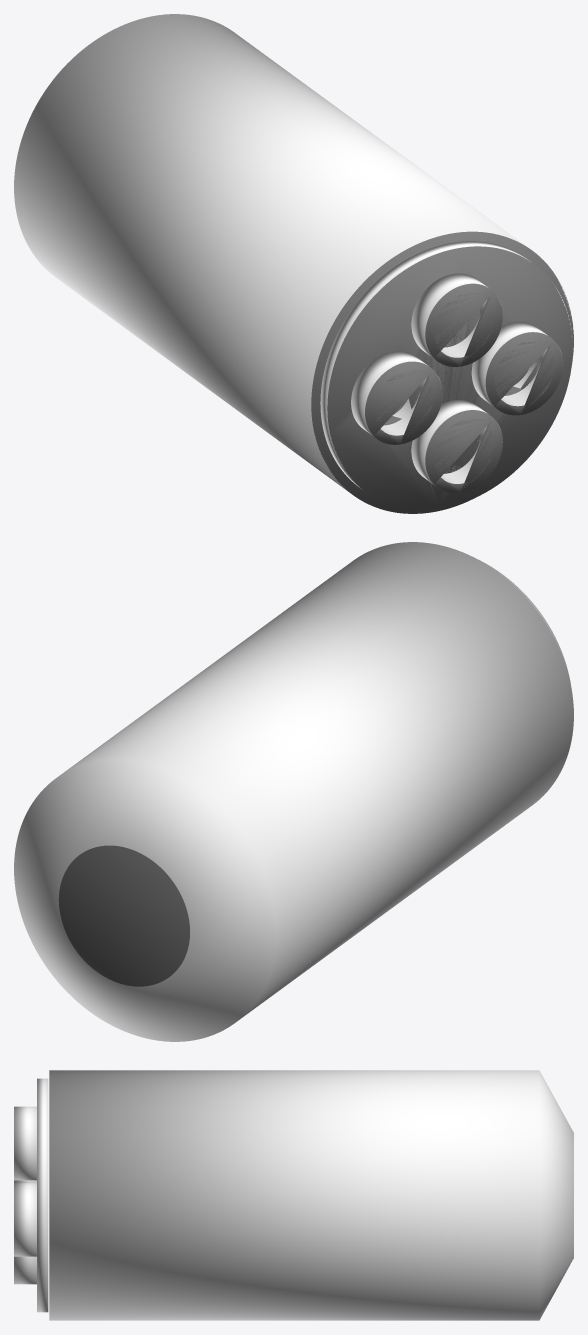
Rendered from sm6_booster_fixed.obj.
3 renders of one model, top to bottom at view 1: azimuth 30°, elevation 25°; view 2: azimuth 150°, elevation 25°; view 3: azimuth 270°, elevation 25°, orthographic. The views are drawn at different scales.
Visible parts, largest first — view 1: sm6_booster; view 2: sm6_booster; view 3: sm6_booster.
Part boxes in pixels (bbox=[...]): sm6_booster: bbox=[14, 14, 573, 513]; sm6_booster: bbox=[14, 542, 573, 1041]; sm6_booster: bbox=[14, 1070, 573, 1320].
Bounding box in the file's own units: 23.54 × 23.54 × 52.7.
